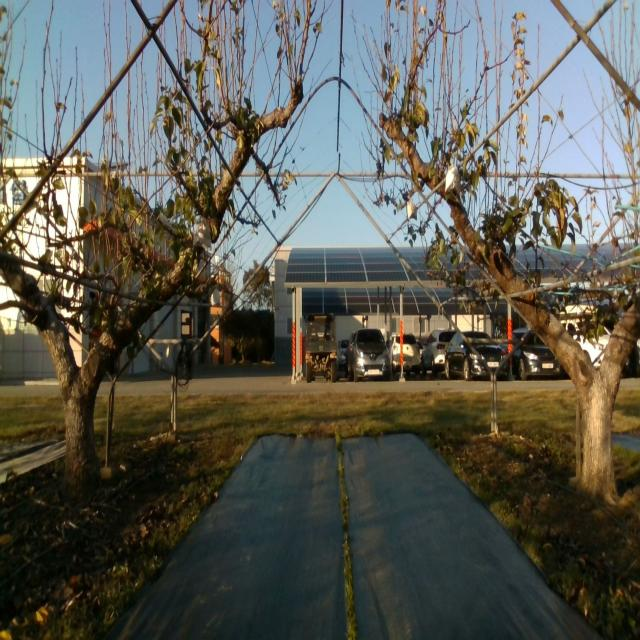pearbags: (193, 218, 211, 250), (445, 158, 461, 193)
